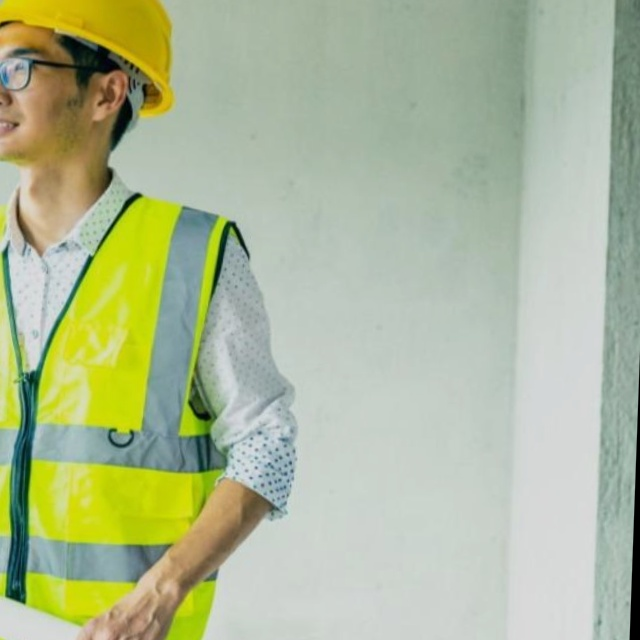Con_Casco: (0, 0, 183, 167)
Con_Chaleco: (0, 186, 254, 640)
